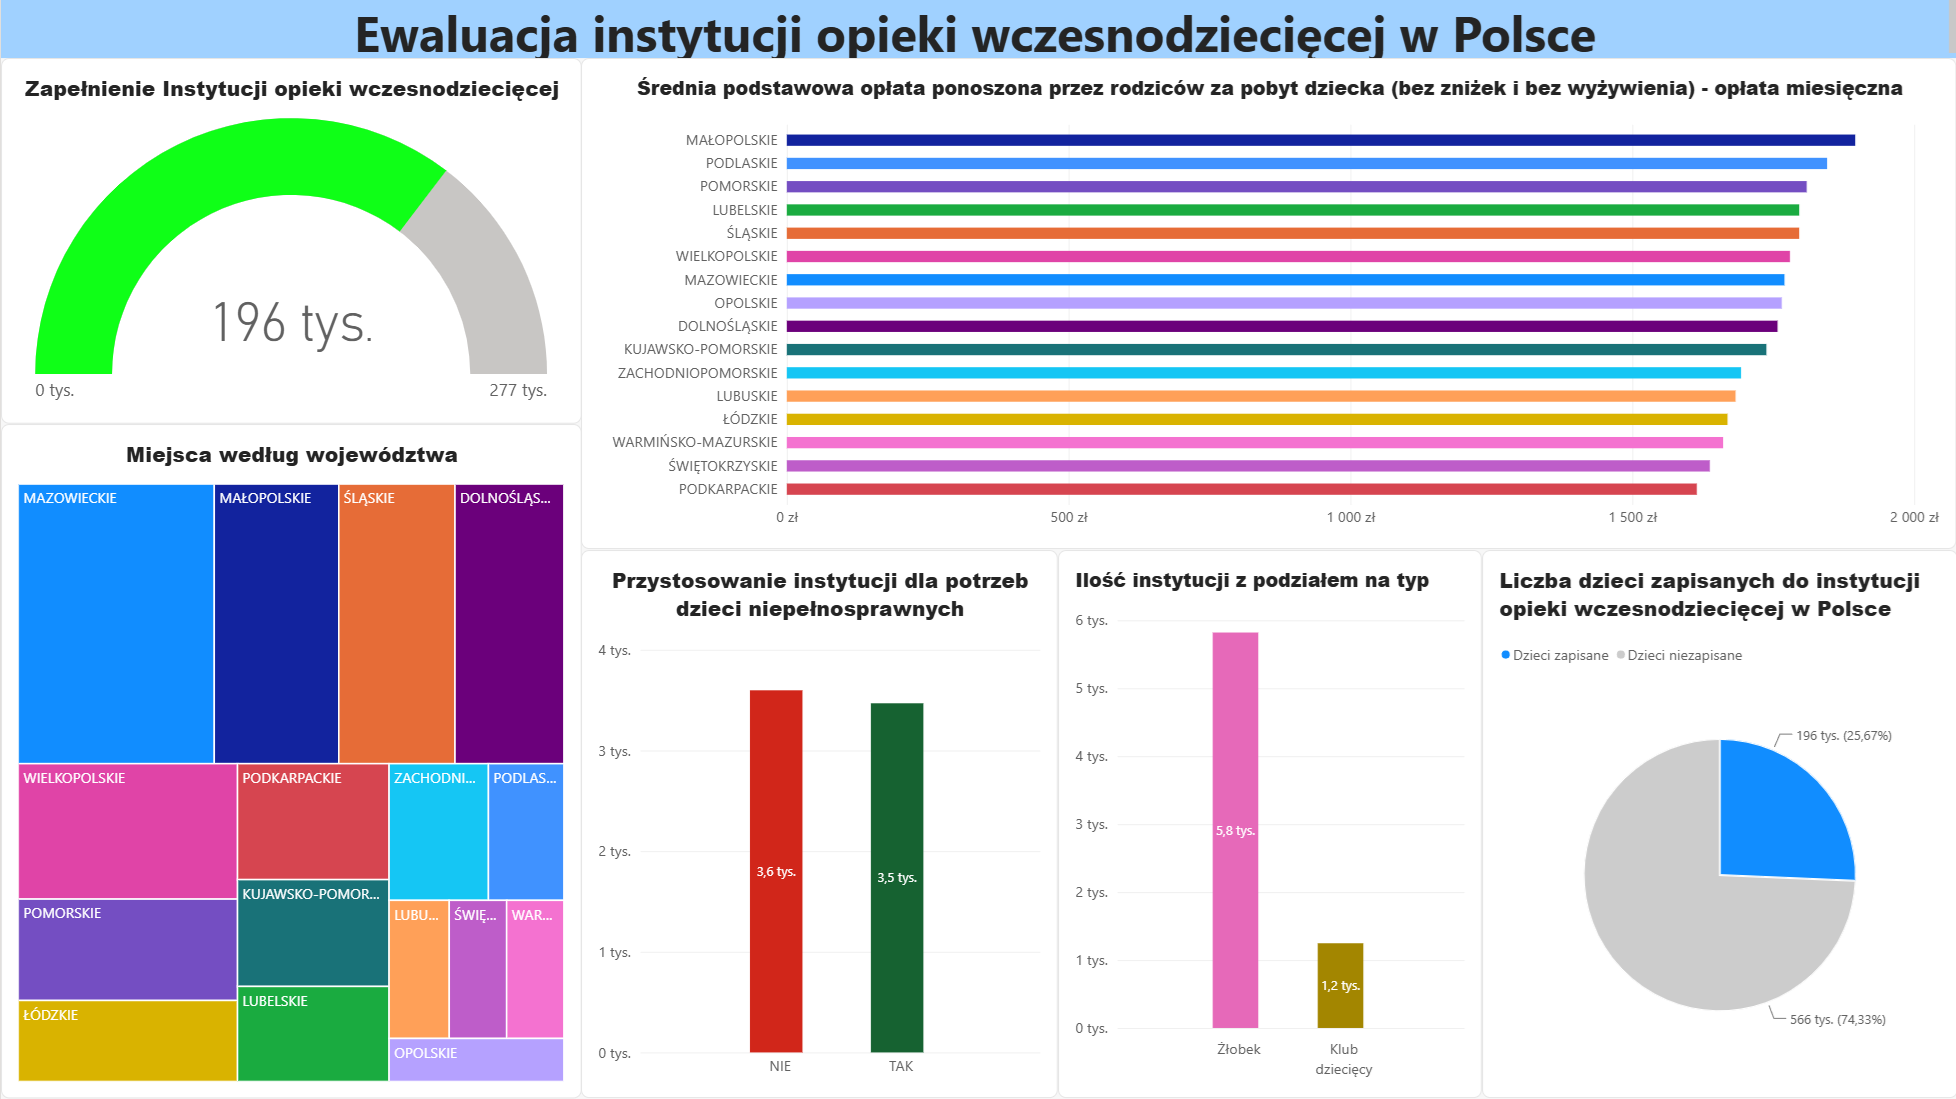

Layout of this report page (visuals, bound fields, positions):
{"tool":"powerbi","page":{"name":"Strona 1","canvas":[1920,1080],"ordinal":0},"visuals":[{"type":"textbox","box":[0,0,1920,58.2],"z":0},{"type":"gauge","title":"Zapełnienie Instytucji opieki wczesnodziecięcej","fields":{"MaxValue":["Sum(R_Z-instytucje.Liczba miejsc)1"],"MinValue":["Min(R_Z-instytucje.Liczba miejsc)"],"Y":["Sum(R_Z-instytucje.Liczba dzieci zapisanych)"]},"box":[0,58.2,569.5,359.2],"z":1000},{"type":"treemap","title":"Miejsca według województwa","fields":{"Group":["R_Z-instytucje.Województwo"],"Values":["Sum(R_Z-instytucje.Liczba miejsc)"]},"box":[0,417.3,569.5,662.4],"z":2000},{"type":"barChart","title":"Średnia podstawowa opłata ponoszona przez rodziców za pobyt dziecka (bez zniżek i bez wyżywienia) - opłata miesięczna","fields":{"Category":["R_Z-instytucje.Województwo","R_Z-instytucje.Powiat","R_Z-instytucje.Gmina","R_Z-instytucje.Miejscowość"],"Series":["R_Z-instytucje.Województwo"],"Y":["Avg(R_Z-instytucje.Podstawowa opłata ponoszona przez rodziców za pobyt dziecka (bez zniżek i bez wyżywienia) - opłata mi"]},"box":[569.5,58.2,1350.5,482.2],"z":3000},{"type":"columnChart","title":"Ilość instytucji z podziałem na typ","fields":{"Category":["R_Z-instytucje.Typ instytucji"],"Series":["R_Z-instytucje.Typ instytucji"],"Y":["CountNonNull(R_Z-instytucje.Identyfikator instytucji)"]},"box":[1037.2,540.4,416.2,538.2],"z":4000},{"type":"columnChart","title":"Przystosowanie instytucji dla potrzeb dzieci niepełnosprawnych","fields":{"Category":["R_Z-instytucje.Czy żłobek/klub jest dostosowany do potrzeb dzieci niepełnosprawnych lub wymagających szczególnej opieki?"],"Series":["R_Z-instytucje.Czy żłobek/klub jest dostosowany do potrzeb dzieci niepełnosprawnych lub wymagających szczególnej opieki?"],"Y":["CountNonNull(R_Z-instytucje.Identyfikator instytucji)"]},"box":[569.5,540.4,467.7,538.2],"z":5000},{"type":"pieChart","title":"Liczba dzieci zapisanych do instytucji opieki wczesnodziecięcej w Polsce","fields":{"Y":["Sum(R_Z-instytucje.Liczba dzieci zapisanych)","R_Z-instytucje.dzieci_w_polsce"]},"box":[1453.4,540.4,466.6,538.2],"z":6000}]}

Visuals, with their boxes in screenshot pixels (x1, y1, x2, y2), scaled from the page's 1920x1080 canvas onto the 1956x1099 screenshot:
textbox: select_region(0, 0, 1955, 59)
"Zapełnienie Instytucji opieki wczesnodziecięcej" gauge: select_region(0, 59, 580, 425)
"Miejsca według województwa" treemap: select_region(0, 425, 580, 1098)
"Średnia podstawowa opłata ponoszona przez rodziców za pobyt dziecka (bez zniżek i bez wyżywienia) - opłata miesięczna" barChart: select_region(580, 59, 1955, 550)
"Ilość instytucji z podziałem na typ" columnChart: select_region(1057, 550, 1481, 1098)
"Przystosowanie instytucji dla potrzeb dzieci niepełnosprawnych" columnChart: select_region(580, 550, 1057, 1098)
"Liczba dzieci zapisanych do instytucji opieki wczesnodziecięcej w Polsce" pieChart: select_region(1481, 550, 1955, 1098)
